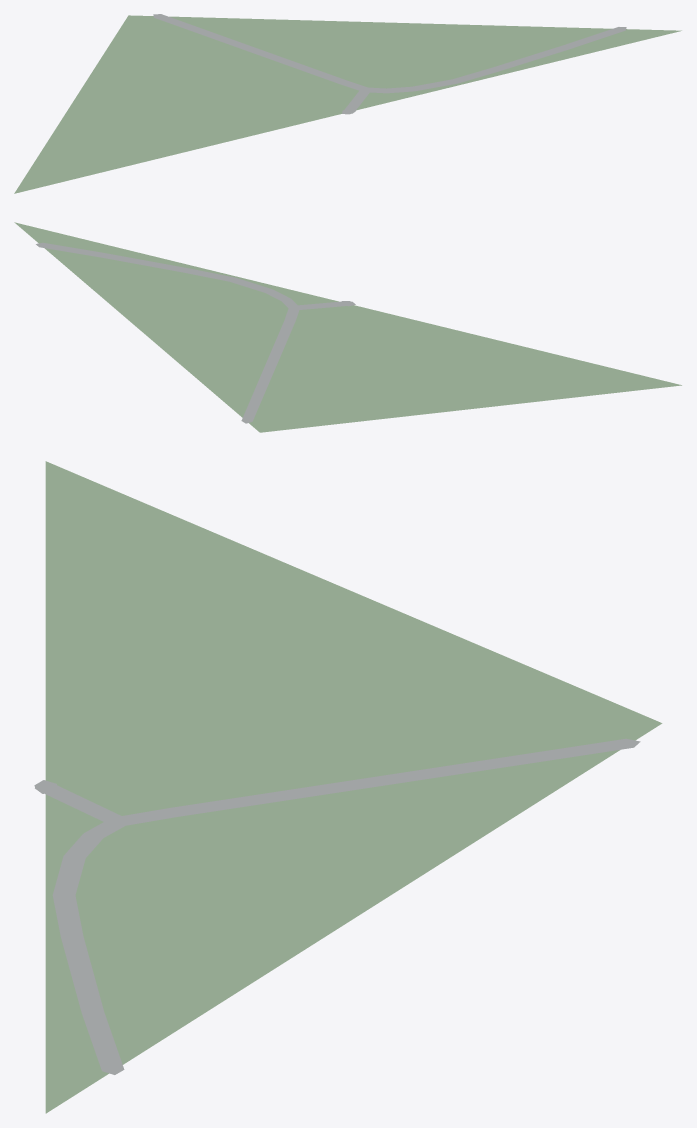
Rendered from -14_36-known-fine.glb.
3 renders of one model, top to bottom at view 1: azimuth 30°, elevation 25°; view 2: azimuth 150°, elevation 25°; view 3: azimuth 270°, elevation 25°, orthographic. The views are drawn at different scales.
Bounding box in the file's own units: 204 × 0.1 × 82.99.
